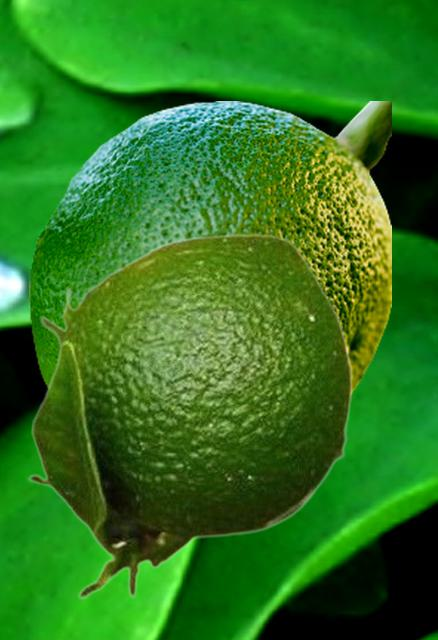dalandan: (26, 233, 352, 599), (29, 101, 390, 398)
